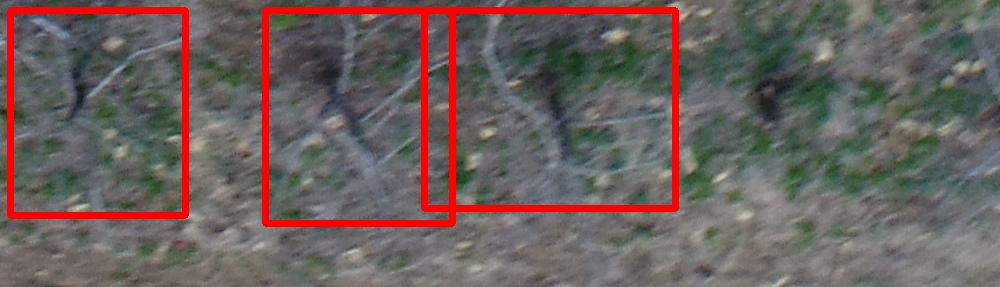apple: (424, 10, 675, 208), (265, 10, 452, 223), (10, 10, 185, 215)
